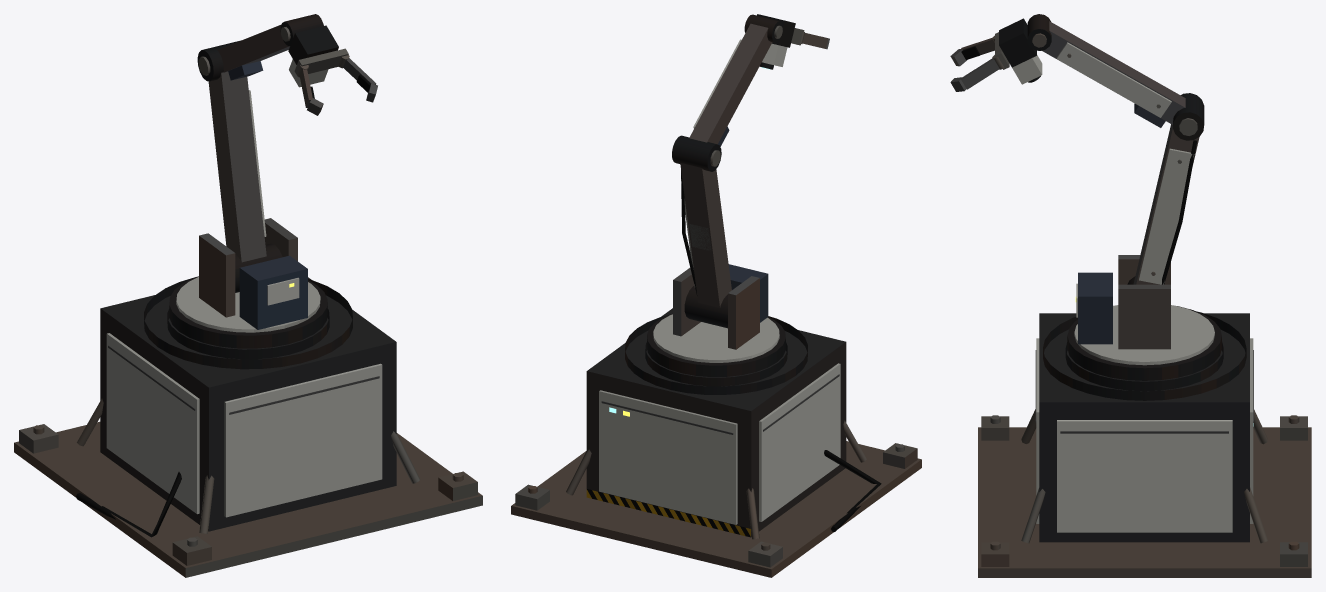
Rendered from filter_arm.glb.
The picture shows the model from 3 angles, left to right: view 1: azimuth 30°, elevation 25°; view 2: azimuth 150°, elevation 25°; view 3: azimuth 270°, elevation 25°; orthographic projection. The views are drawn at different scales.
Parts seen in each view (by area): view 1: Frame, Turret, UpperArm, Head, Forearm, ClawR, ClawL; view 2: Frame, Turret, UpperArm, Forearm, Head; view 3: Frame, Turret, Forearm, UpperArm, Head, ClawR, ClawL.
Part boxes in pixels (x1,y1,x2,y2): Frame: [14, 277, 482, 577]; Turret: [169, 218, 327, 348]; UpperArm: [208, 71, 282, 292]; Head: [280, 14, 348, 87]; Forearm: [197, 24, 289, 81]; ClawR: [338, 55, 377, 102]; ClawL: [297, 65, 323, 115]; Frame: [511, 308, 921, 577]; Turret: [647, 264, 785, 376]; UpperArm: [680, 163, 731, 328]; Forearm: [672, 23, 772, 171]; Head: [744, 14, 804, 69]; Frame: [978, 311, 1311, 577]; Turret: [1067, 255, 1221, 380]; Forearm: [1042, 21, 1204, 140]; UpperArm: [1127, 124, 1199, 284]; Head: [995, 14, 1051, 84]; ClawR: [950, 55, 1004, 91]; ClawL: [950, 35, 994, 66].
Bounding box in the file's own units: 1.94 × 3.05 × 2.06.
